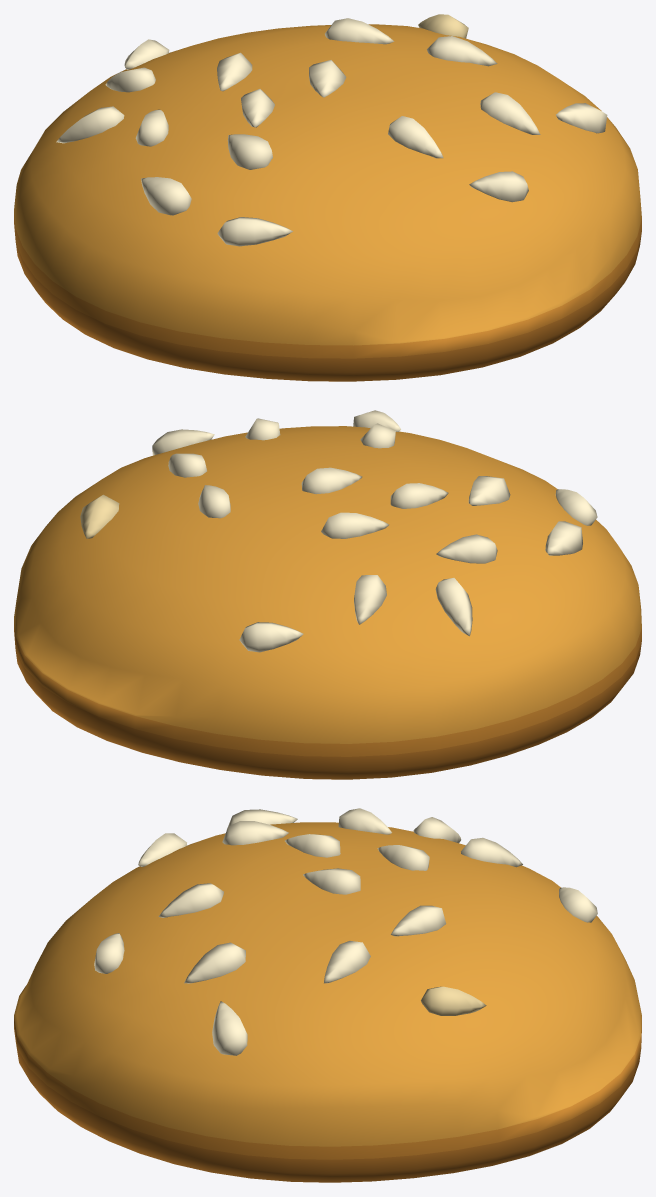
Rendered from bun_top.glb.
The picture shows the model from 3 angles, top to bottom: view 1: azimuth 30°, elevation 25°; view 2: azimuth 150°, elevation 25°; view 3: azimuth 270°, elevation 25°; orthographic projection.
Parts seen in each view (by area): view 1: BunTop; view 2: BunTop; view 3: BunTop.
Boxes of the visible parts, box(x1,y1,x2,y2) form: BunTop: box(14, 14, 641, 381); BunTop: box(14, 410, 641, 779); BunTop: box(14, 808, 641, 1182).
Size of the model in its own units: 3.2 by 1.1 by 3.2.
